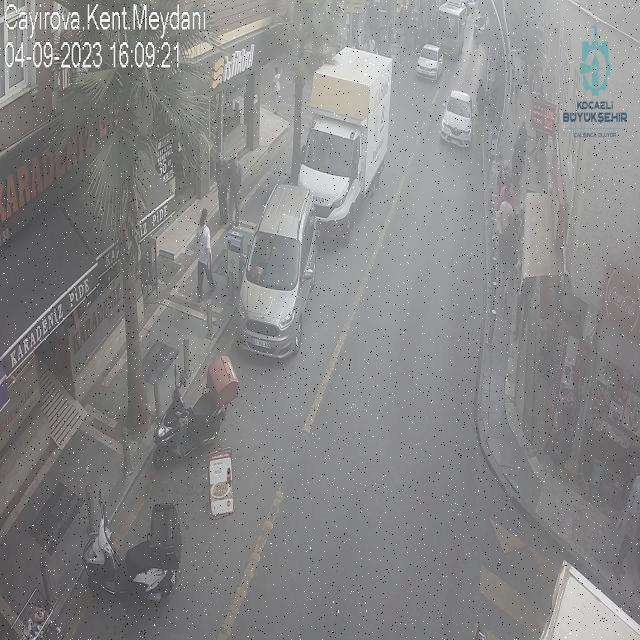Bus: (437, 0, 468, 60)
Car: (234, 183, 319, 361), (438, 88, 477, 151), (414, 43, 444, 81)
Cycle: (80, 496, 184, 613), (150, 354, 245, 468)
Truck: (296, 47, 397, 236)
